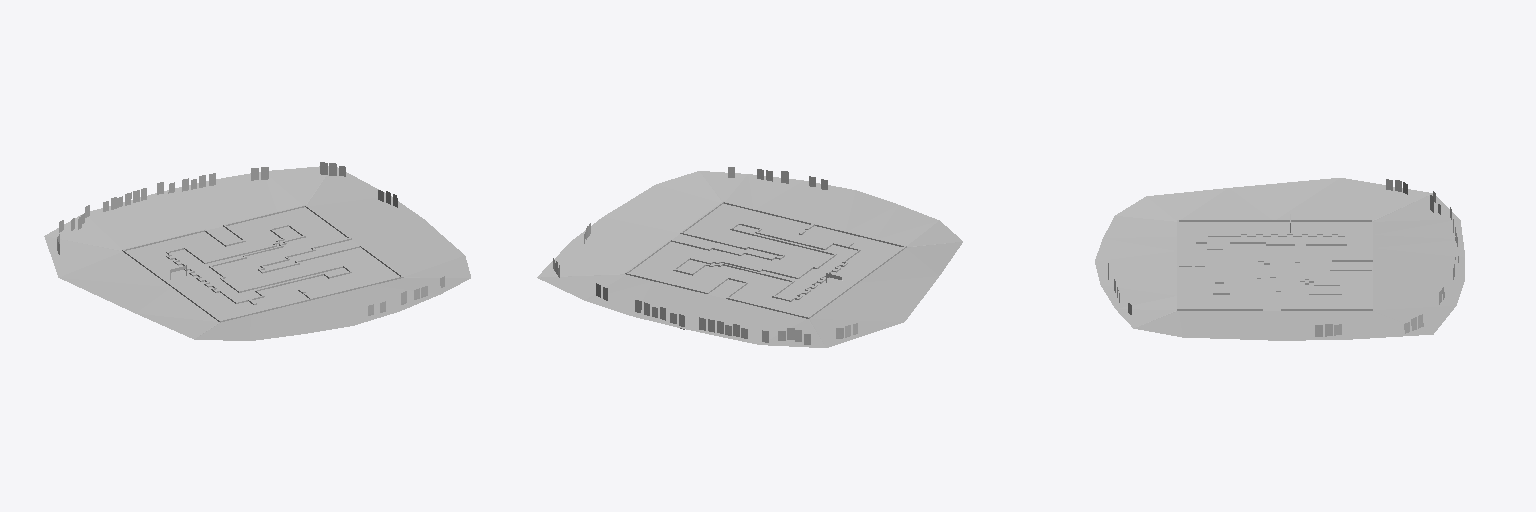
File: Track_1.obj
3 views of the same model, side by side, from view 1: azimuth 30°, elevation 25°; view 2: azimuth 150°, elevation 25°; view 3: azimuth 270°, elevation 25° (orthographic).
Parts seen in each view (by area): view 1: Track_Grass, Track_Sand, Track_Road, Track_Trees, Track_Side_Sidepieces, Track_Side_Toppieces, Track_Start_Roadpieces; view 2: Track_Grass, Track_Sand, Track_Road, Track_Trees, Track_Side_Sidepieces, Track_Side_Toppieces, Track_Start_Roadpieces; view 3: Track_Grass, Track_Sand, Track_Road, Track_Side_Sidepieces, Track_Side_Toppieces, Track_Trees, Track_Start_Roadpieces.
Boxes of the visible parts, box(x1,y1,x2,y2) form: Track_Grass: box(44, 166, 470, 340); Track_Sand: box(126, 207, 399, 319); Track_Road: box(146, 217, 377, 312); Track_Trees: box(57, 162, 444, 315); Track_Side_Sidepieces: box(122, 206, 403, 322); Track_Side_Toppieces: box(123, 205, 403, 320); Track_Start_Roadpieces: box(154, 259, 332, 300); Track_Grass: box(537, 171, 962, 347); Track_Sand: box(629, 204, 902, 316); Track_Road: box(651, 214, 879, 309); Track_Trees: box(553, 167, 857, 344); Track_Side_Sidepieces: box(625, 202, 906, 318); Track_Side_Toppieces: box(626, 201, 905, 317); Track_Start_Roadpieces: box(723, 236, 870, 299); Track_Grass: box(1095, 178, 1464, 340); Track_Sand: box(1179, 222, 1371, 308); Track_Road: box(1182, 225, 1367, 306); Track_Side_Sidepieces: box(1177, 220, 1372, 310); Track_Side_Toppieces: box(1177, 220, 1372, 308); Track_Trees: box(1108, 179, 1458, 336); Track_Start_Roadpieces: box(1232, 225, 1326, 291).
Bounding box in the file's own units: 758 × 36.76 × 728.